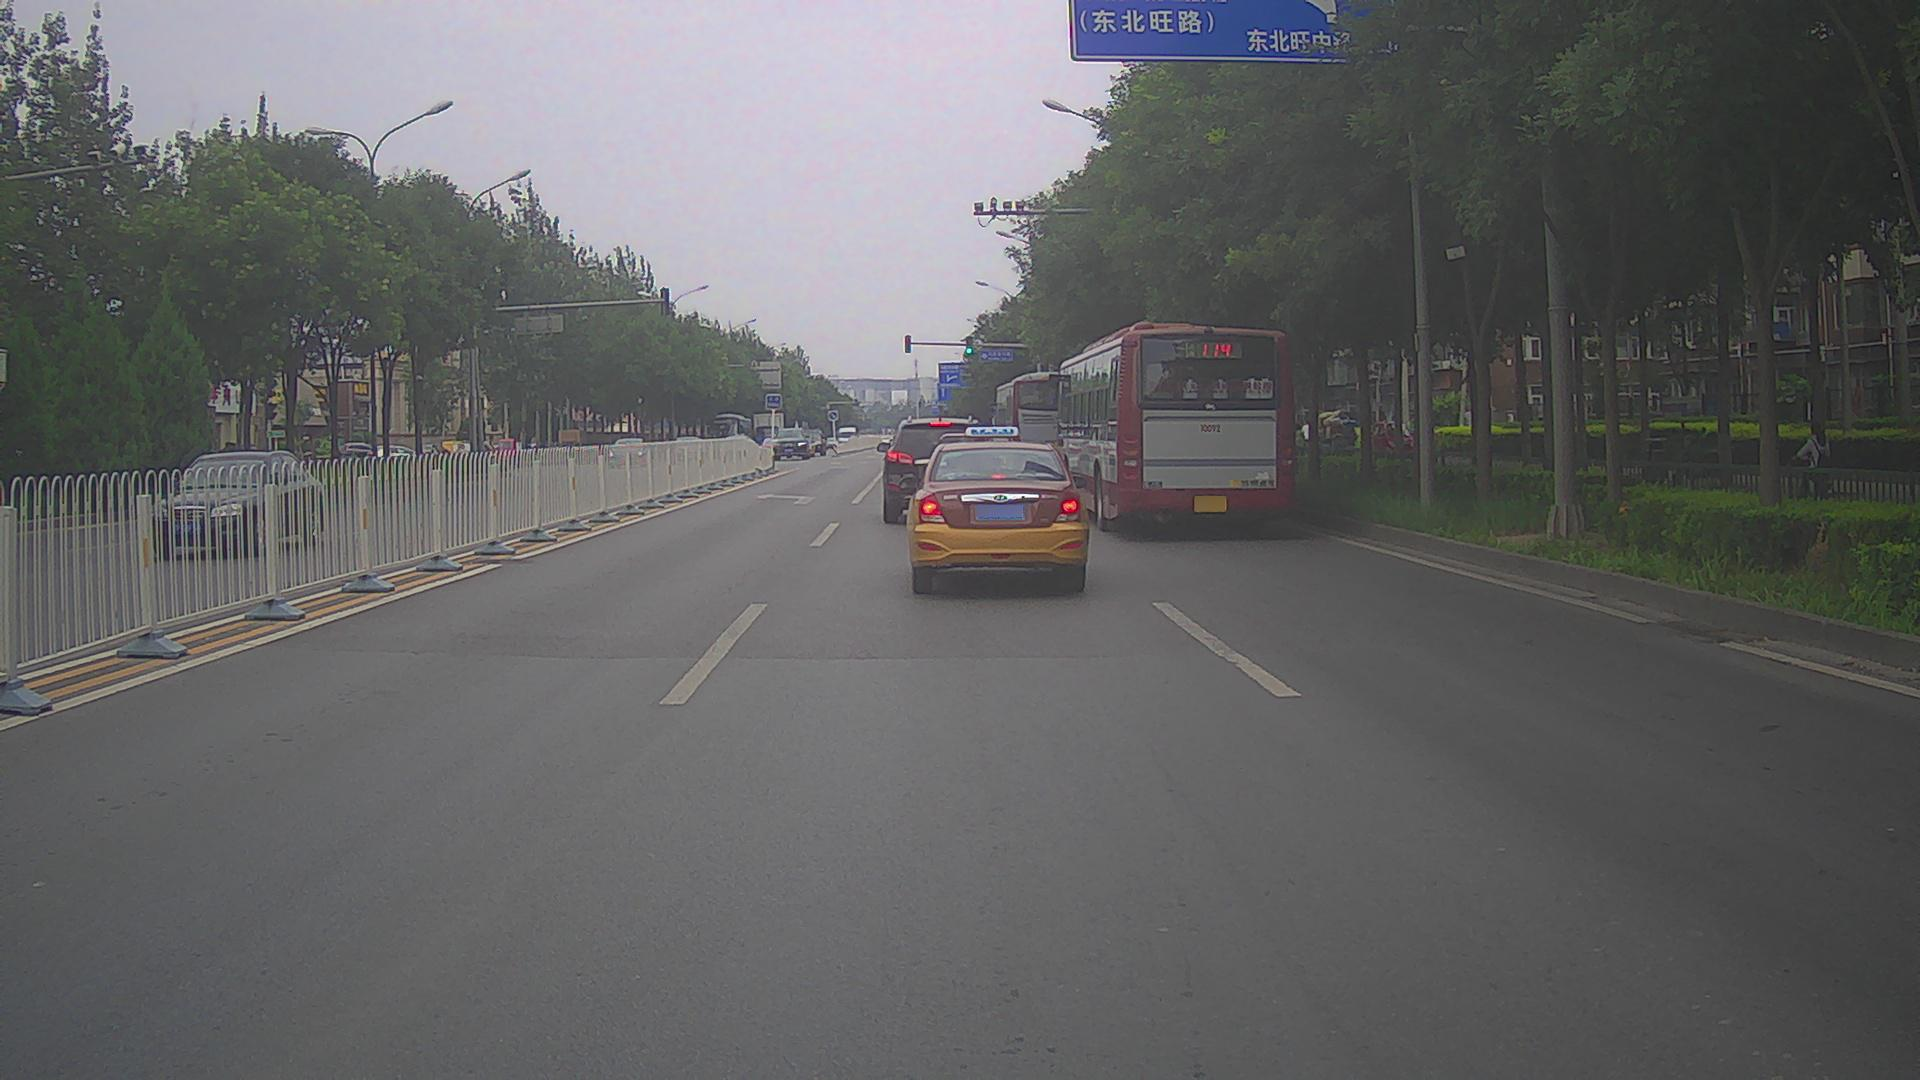bus: (1048, 320, 1294, 534), (988, 370, 1099, 484), (712, 413, 753, 451)
car: (897, 425, 1090, 595), (149, 450, 327, 561), (876, 415, 987, 523), (1370, 421, 1418, 463), (770, 427, 810, 461), (336, 442, 383, 471), (608, 437, 650, 468), (372, 444, 422, 471), (671, 435, 705, 464), (797, 427, 828, 456), (794, 432, 816, 458), (825, 436, 837, 449)
pedestrian: (1785, 418, 1833, 548), (482, 433, 496, 476), (429, 442, 440, 479)
tricyclelist: (1299, 421, 1358, 454)
truck: (752, 412, 784, 448), (497, 437, 527, 471)
van: (836, 426, 859, 447)
